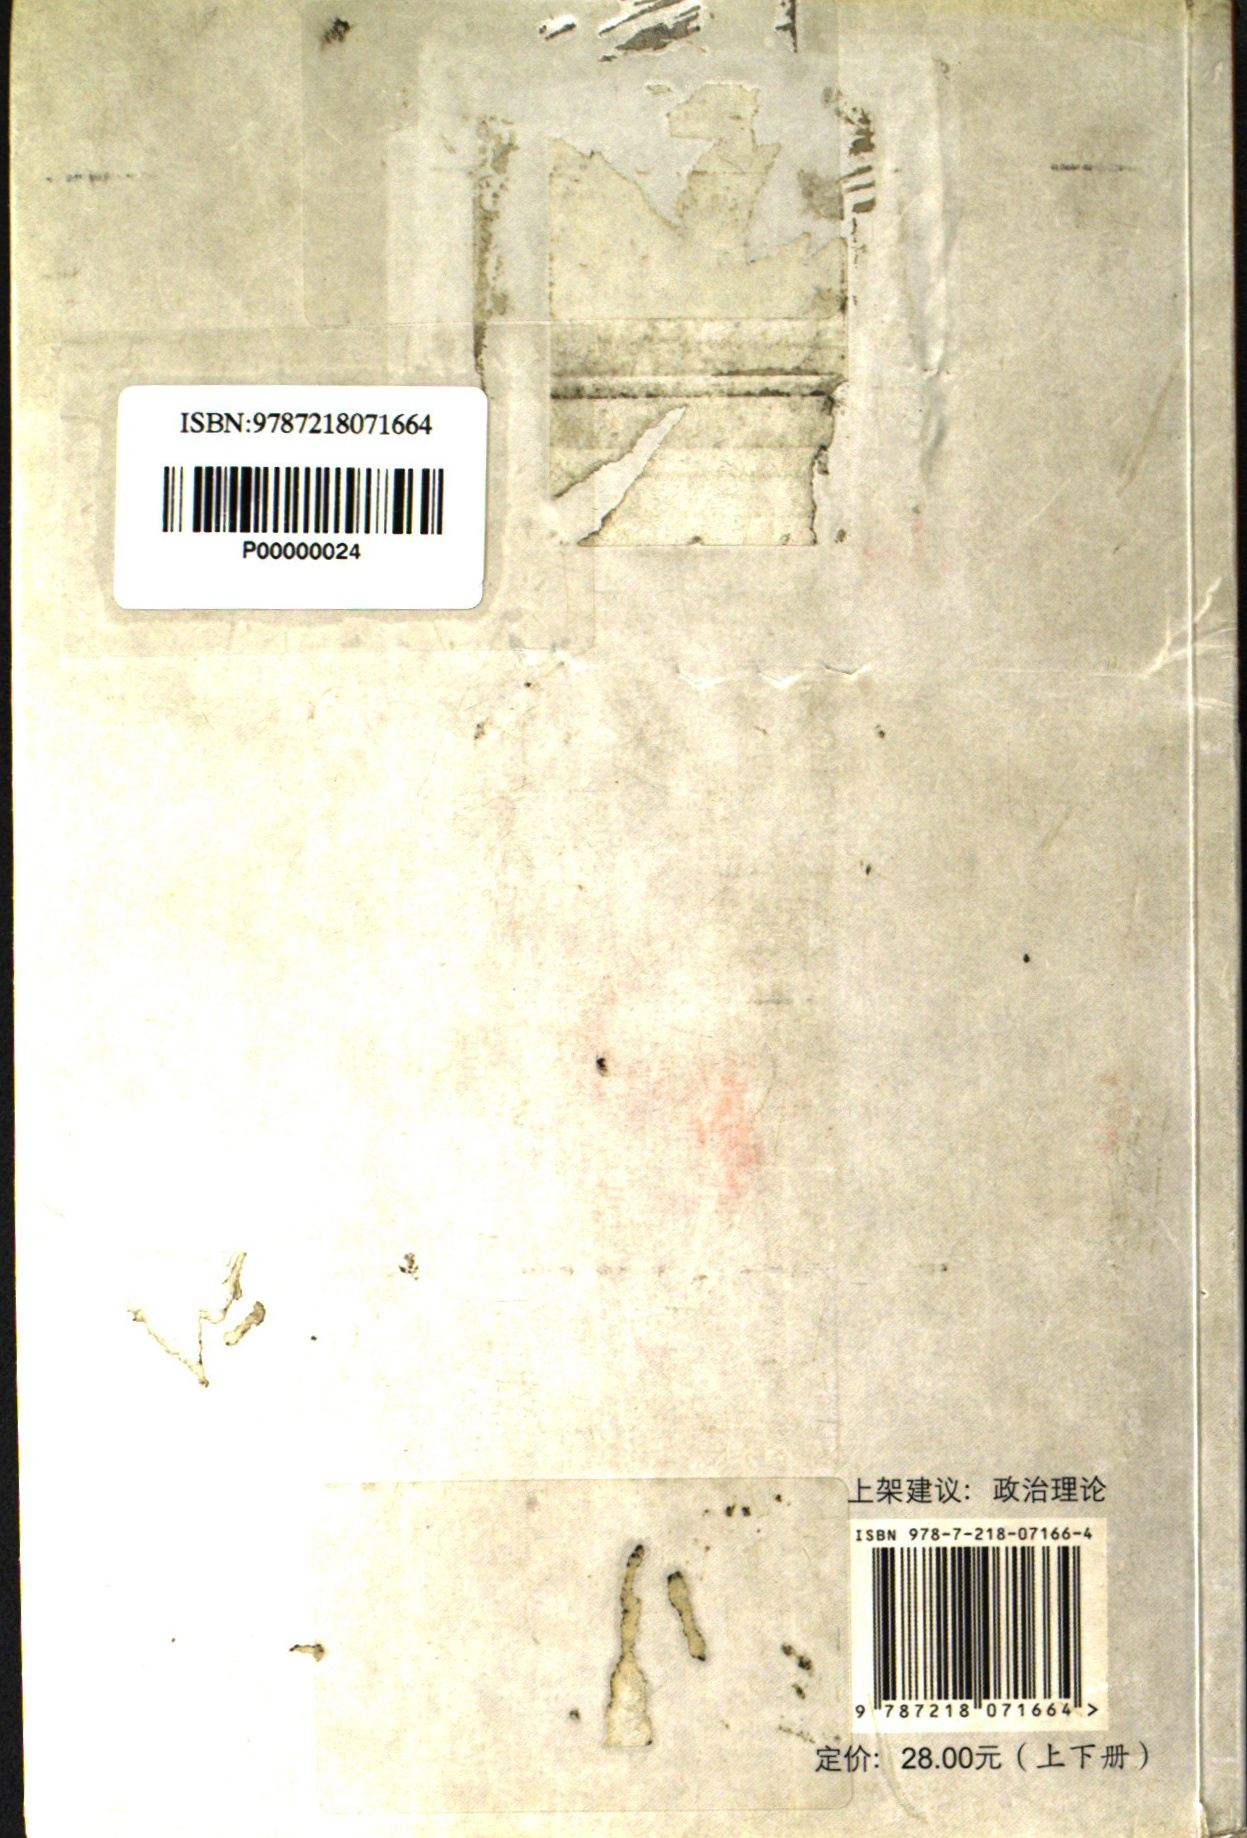barcode: (818, 1473, 1138, 1724), (124, 384, 466, 611)
